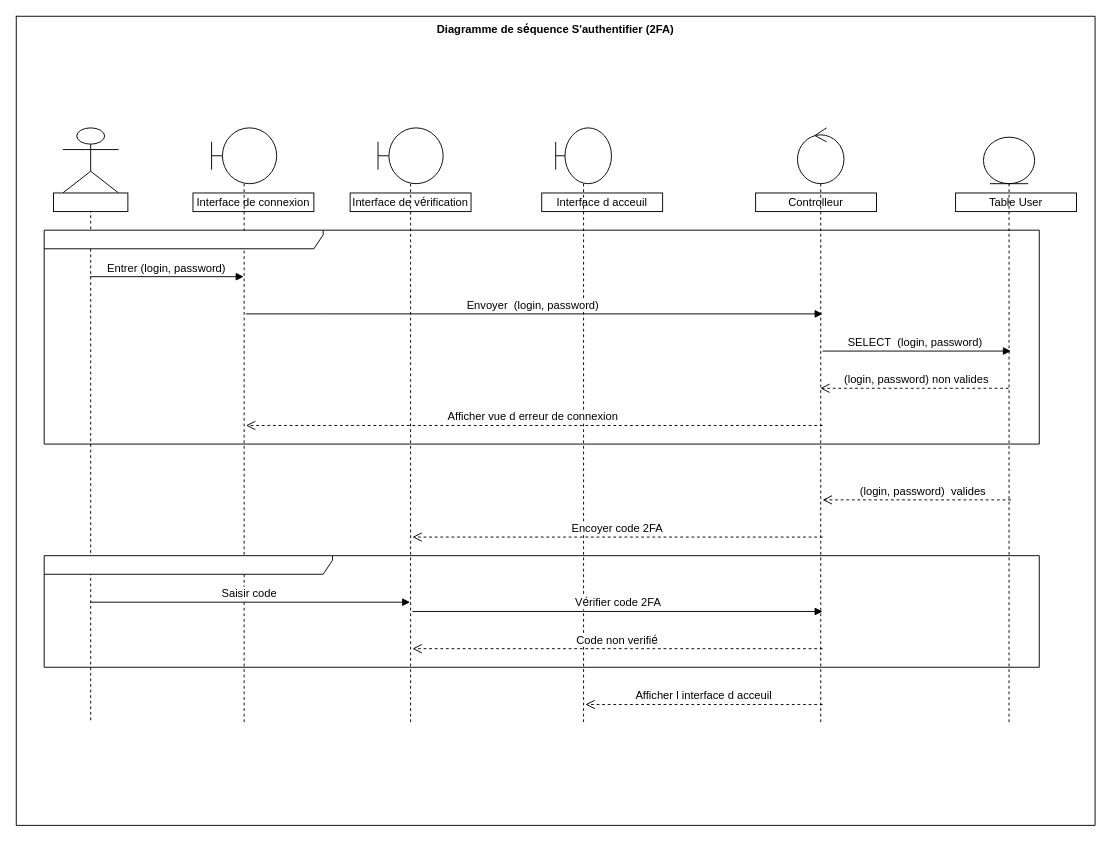
This 1111x842 diagram has some shape labels left out. The centre of each missing label's shape, as x and y in pixels:
"Auditeur" belongs at [90,202].
"loop V é rification du code 2FA" belongs at [541,611].
"loop V é rification du login et password" belongs at [541,336].
